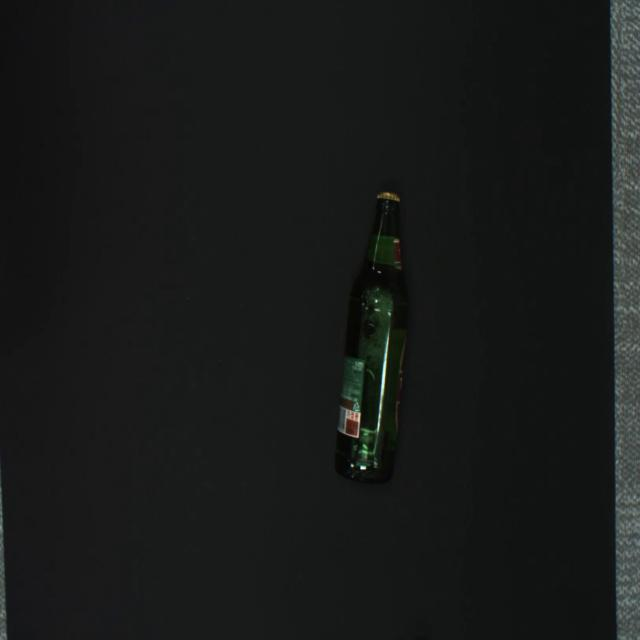beer-bottle: (334, 191, 409, 484)
